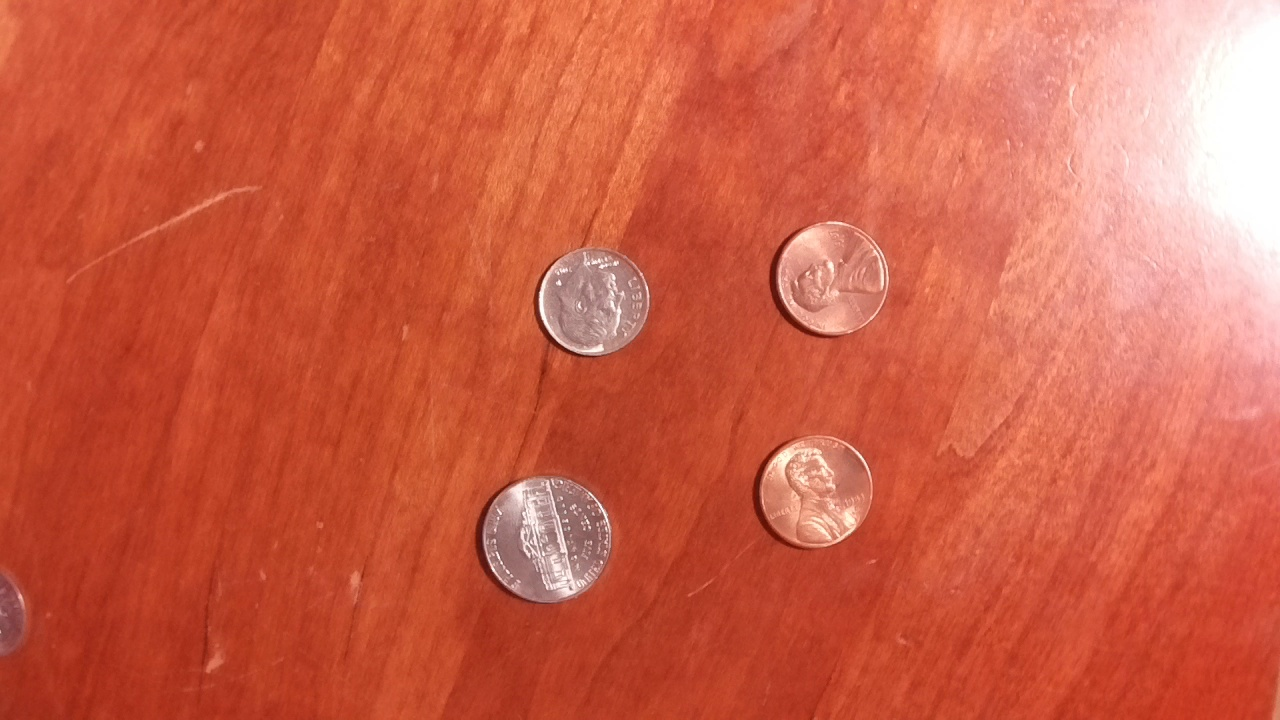dime: (528, 244, 656, 362)
nickel: (472, 474, 618, 608)
penny: (748, 430, 880, 556), (768, 216, 894, 342)
